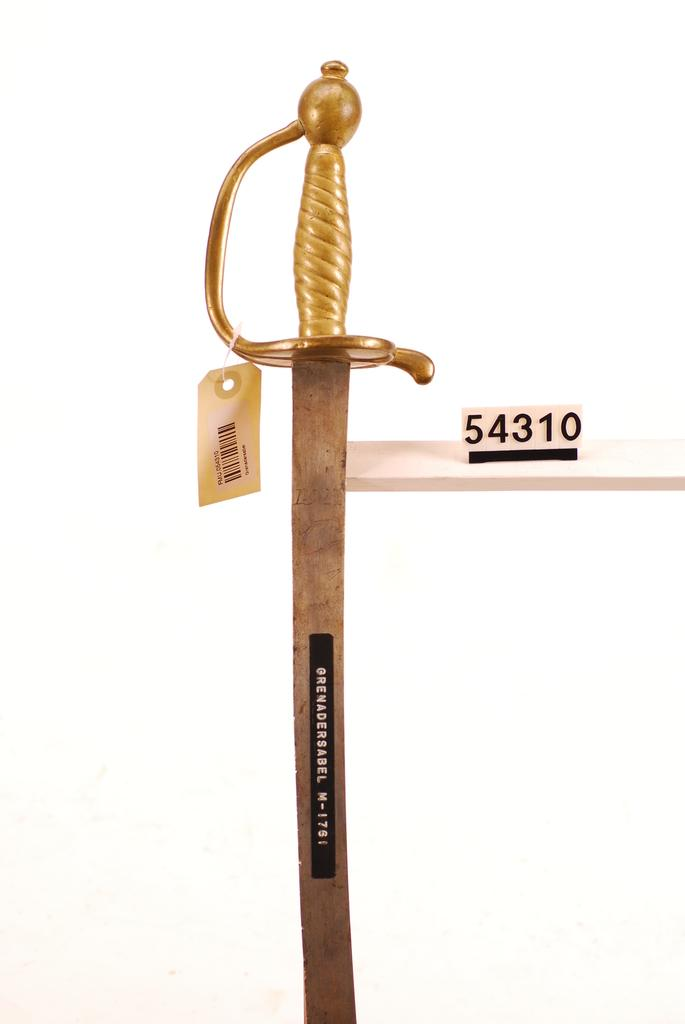Sword: (203, 60, 434, 1023)
